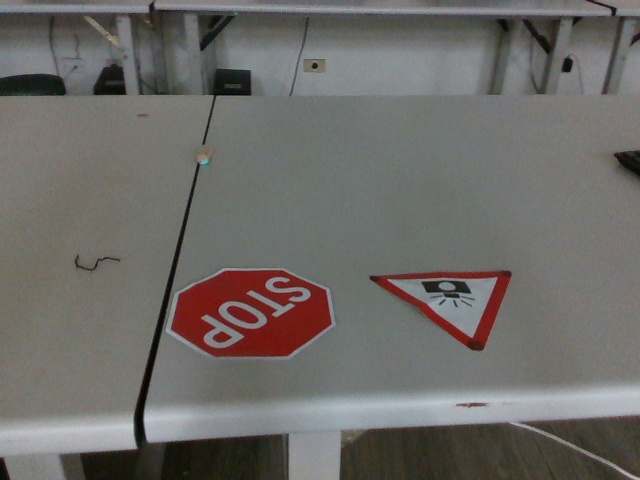camera: (370, 268, 516, 354)
stop: (162, 263, 338, 362)
